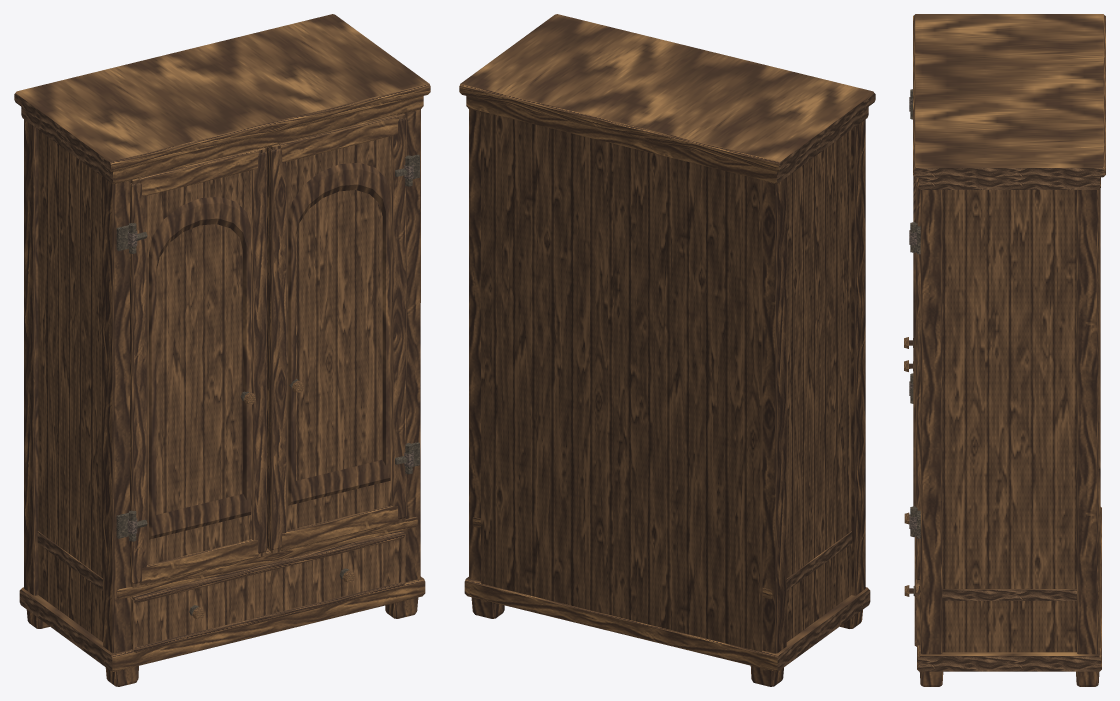
File: Guarda-Roupa.glb
3 views of the same model, side by side, from view 1: azimuth 30°, elevation 25°; view 2: azimuth 150°, elevation 25°; view 3: azimuth 270°, elevation 25° (orthographic).
Parts seen in each view (by area): view 1: Porta direita, Porta esquerda, Cornija, Laterais, Montantes, Gaveta, Rodapé, Travessa da gaveta, Dobradiças fixas, Pés; view 2: Fundo, Cornija, Laterais, Montantes, Rodapé, Pés, Travessa da gaveta; view 3: Laterais, Cornija, Montantes, Rodapé, Porta direita, Travessa da gaveta, Fundo, Pés, Gaveta, Dobradiças fixas.
Part boxes in pixels (left/top/right/bottom): Porta direita: left=264, top=113, right=406, bottom=553; Porta esquerda: left=130, top=147, right=266, bottom=587; Cornija: left=14, top=14, right=430, bottom=183; Laterais: left=38, top=130, right=102, bottom=641; Montantes: left=24, top=109, right=420, bottom=653; Gaveta: left=131, top=530, right=405, bottom=652; Rodapé: left=19, top=576, right=425, bottom=671; Travessa da gaveta: left=37, top=517, right=417, bottom=599; Dobradiças fixas: left=116, top=154, right=419, bottom=541; Pés: left=26, top=597, right=418, bottom=686; Fundo: left=481, top=111, right=762, bottom=651; Cornija: left=459, top=14, right=875, bottom=183; Laterais: left=786, top=130, right=851, bottom=641; Montantes: left=469, top=109, right=865, bottom=653; Rodapé: left=464, top=577, right=870, bottom=671; Pés: left=471, top=597, right=862, bottom=686; Travessa da gaveta: left=472, top=517, right=852, bottom=599; Laterais: left=942, top=190, right=1076, bottom=652; Cornija: left=913, top=14, right=1105, bottom=189; Montantes: left=920, top=189, right=1098, bottom=654; Rodapé: left=917, top=507, right=1101, bottom=671; Porta direita: left=913, top=177, right=920, bottom=583; Travessa da gaveta: left=920, top=583, right=1098, bottom=600; Fundo: left=1098, top=188, right=1100, bottom=647; Pés: left=919, top=671, right=1099, bottom=686; Gaveta: left=904, top=512, right=920, bottom=646; Dobradiças fixas: left=910, top=89, right=920, bottom=538.
Size of the model in its own units: 1.3 by 2.07 by 0.72.
6 materials, 6 textured.
